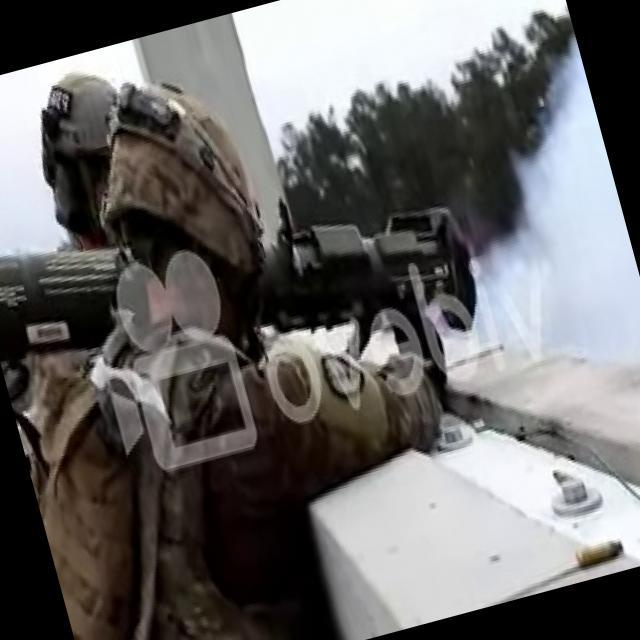rocket: (0, 144, 486, 441)
